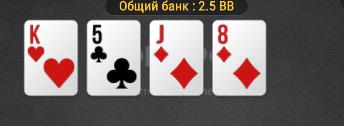5c: (88, 22, 139, 94)
8d: (214, 21, 265, 94)
Jd: (151, 23, 202, 94)
Kh: (25, 22, 77, 94)
